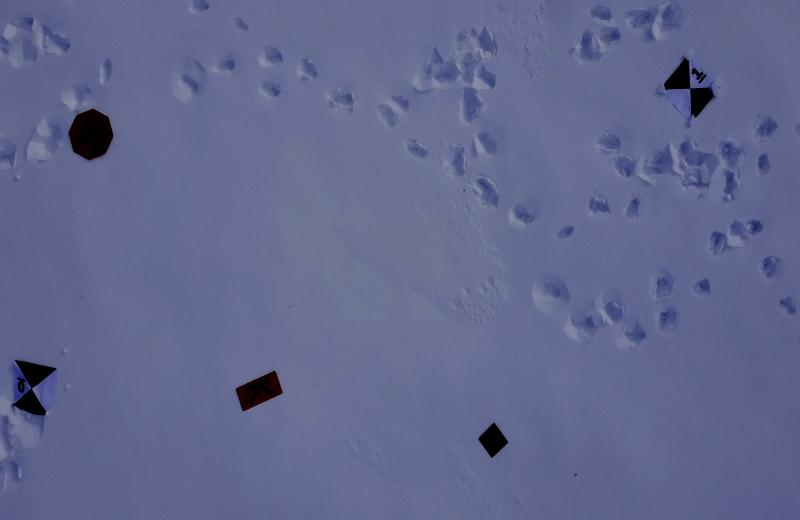Octagon: (67, 108, 115, 164)
Rectangle: (236, 371, 284, 413)
Square: (478, 423, 509, 458)
